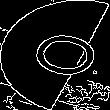O_E: (10, 25, 100, 85)
